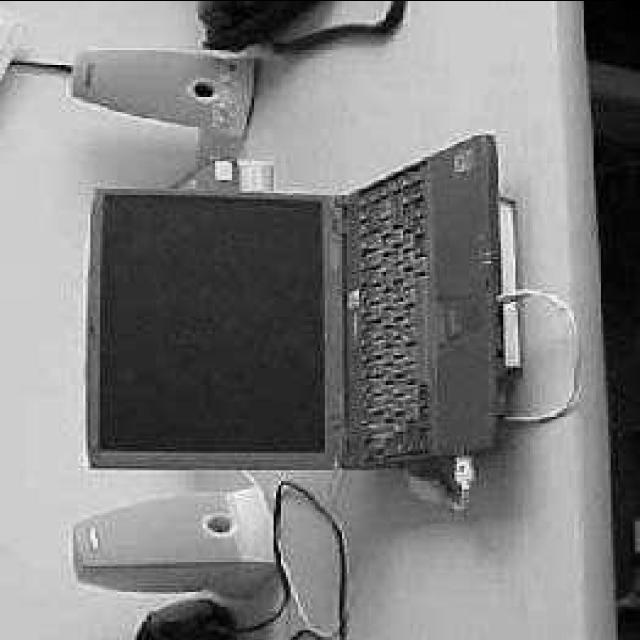laptop: (92, 184, 495, 464)
